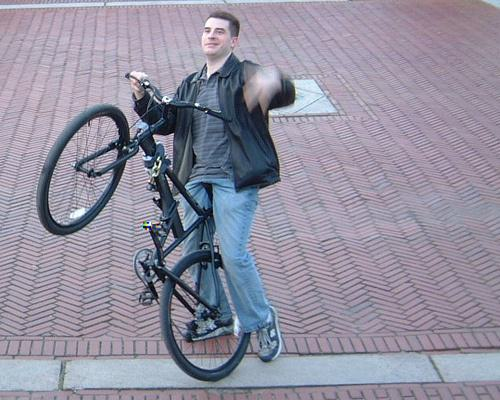car: (36, 69, 259, 383)
person: (130, 11, 298, 365)
